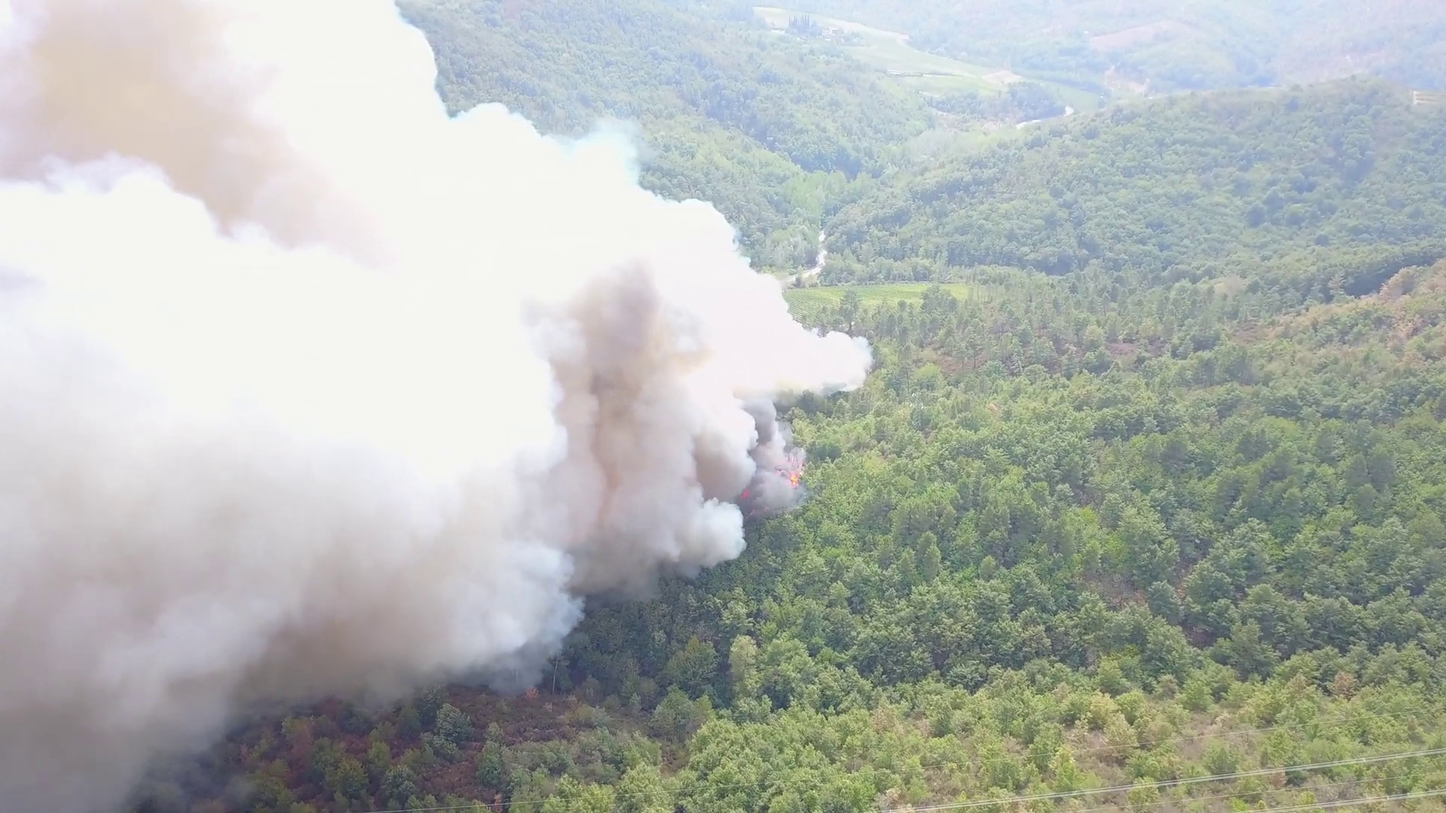forest_fire: (740, 449, 804, 515)
